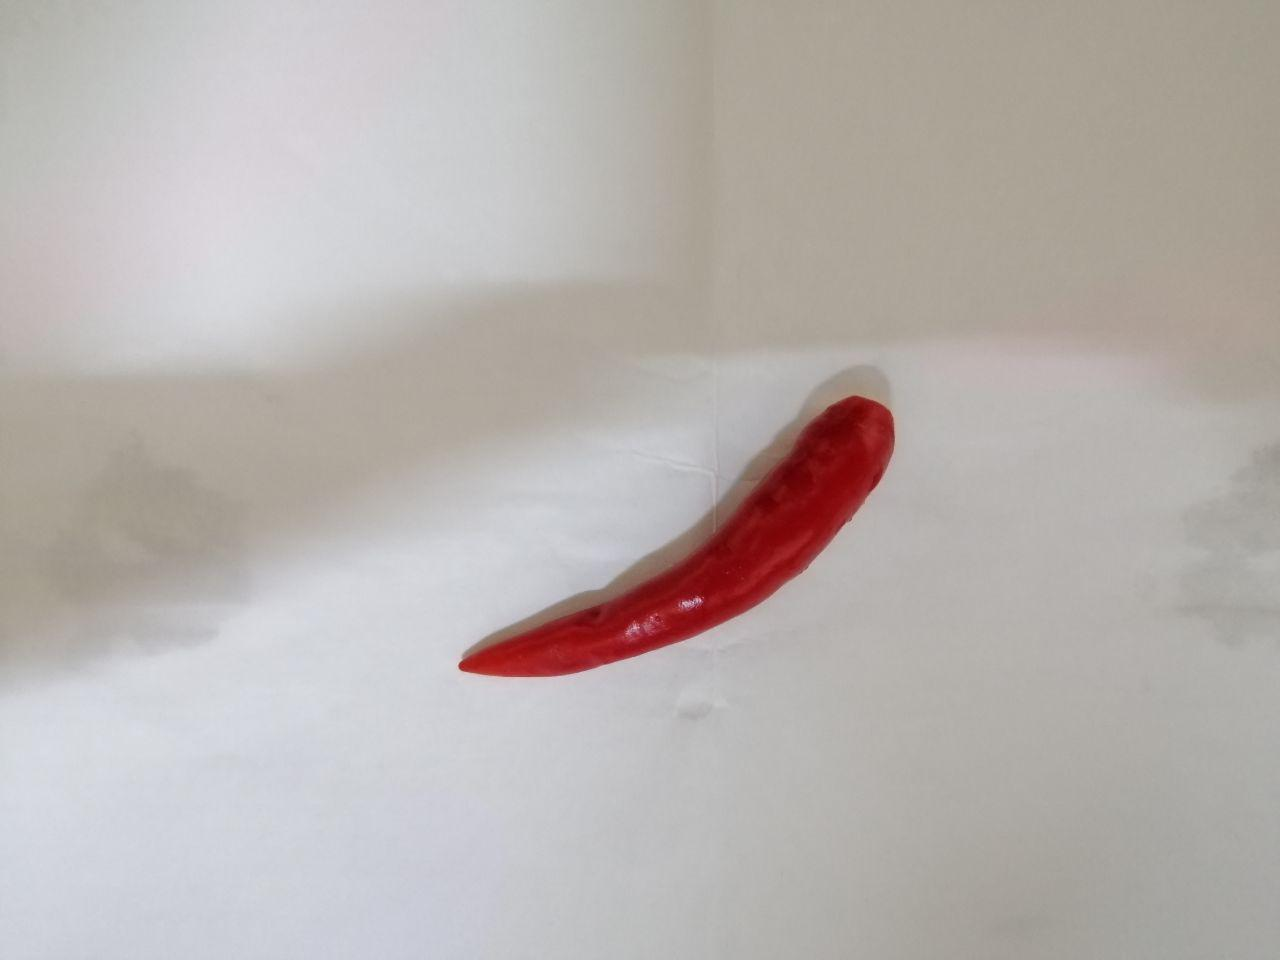lada merah: (440, 377, 906, 709)
